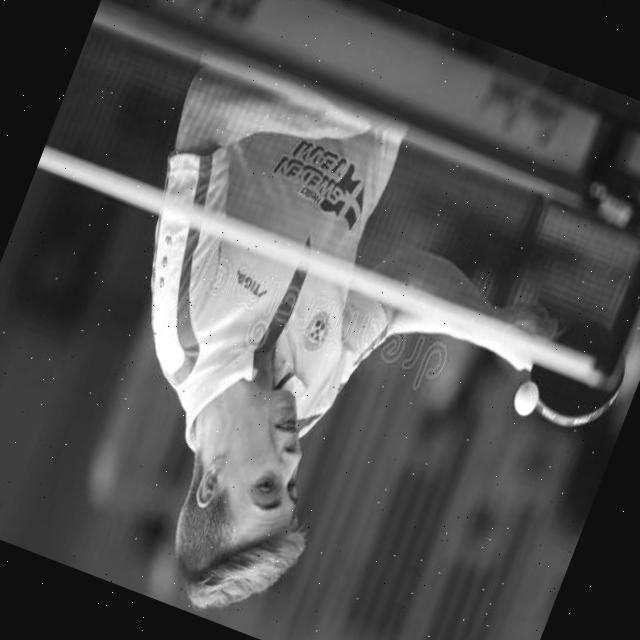ping-pong-ball: (510, 378, 544, 422)
